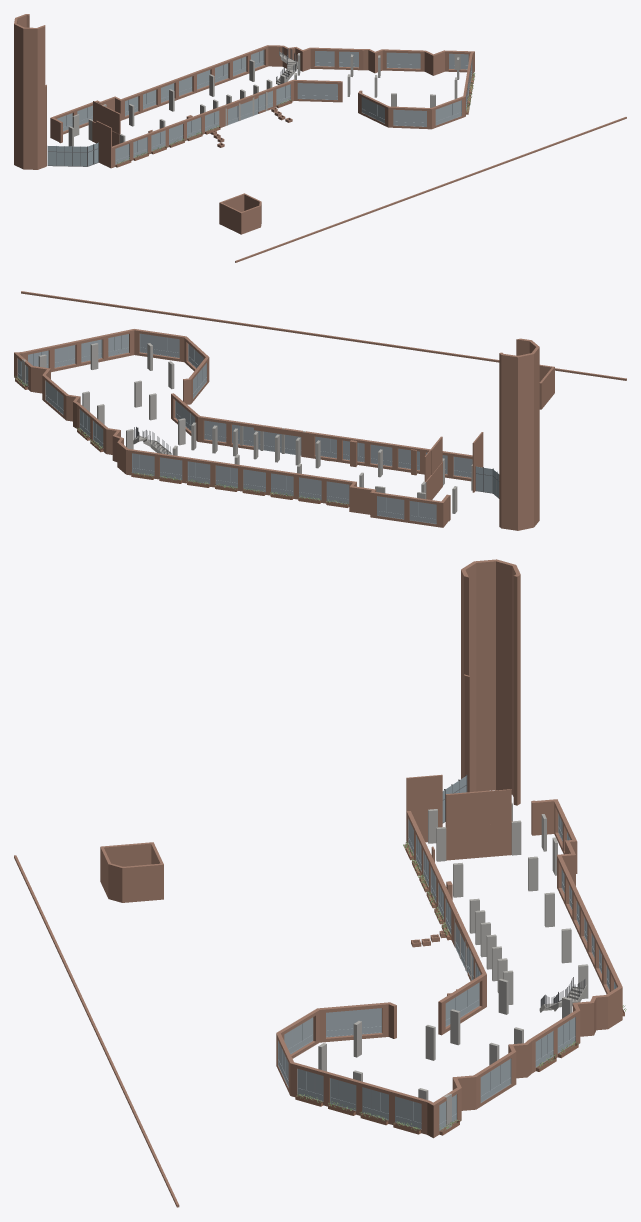
File: revit_nivel_0.glb
3 renders of one model, top to bottom at view 1: azimuth 30°, elevation 25°; view 2: azimuth 150°, elevation 25°; view 3: azimuth 270°, elevation 25°, orthographic. The views are drawn at different scales.
Parts seen in each view (by area): view 1: Revit_PISO 1; view 2: Revit_PISO 1; view 3: Revit_PISO 1.
Boxes of the visible parts, x1=… form: Revit_PISO 1: x1=14, y1=14, x2=626, y2=262; Revit_PISO 1: x1=14, y1=291, x2=626, y2=530; Revit_PISO 1: x1=14, y1=559, x2=626, y2=1207.
Size of the model in its own units: 80.24 by 22.16 by 50.98.
